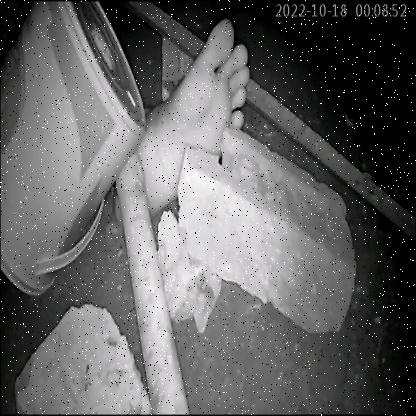leg: (104, 15, 274, 226)
